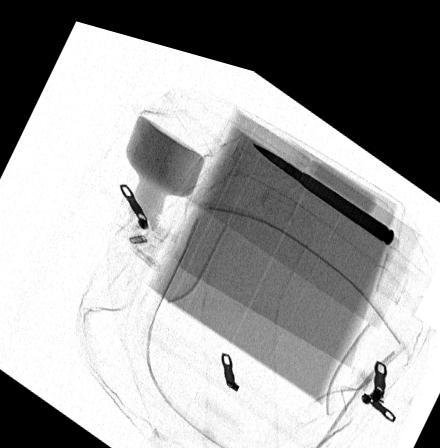Bullet: (250, 127, 398, 225)
